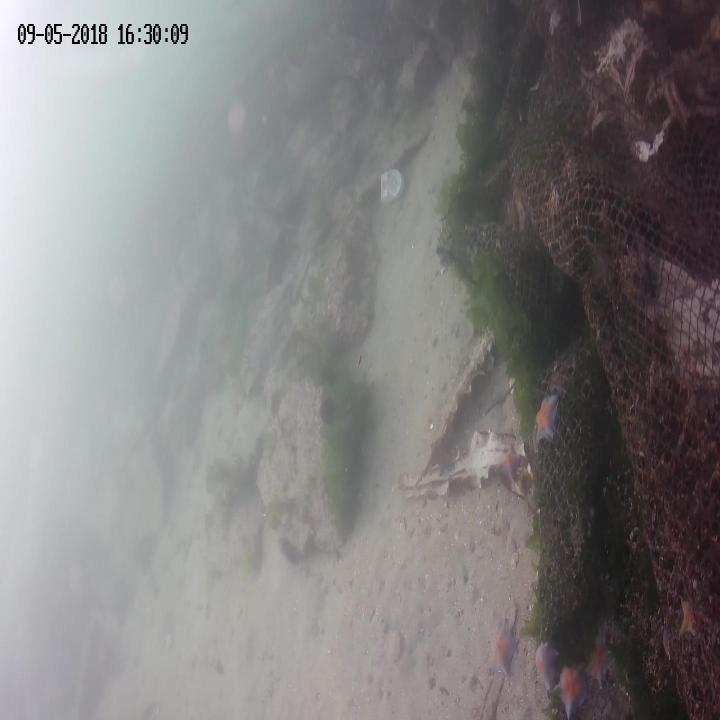starfish: (554, 658, 588, 718), (487, 622, 519, 678), (680, 586, 707, 642), (533, 397, 560, 449), (588, 632, 613, 684), (530, 639, 556, 689), (494, 442, 522, 483), (550, 358, 571, 400), (541, 180, 562, 216), (660, 624, 671, 662)
